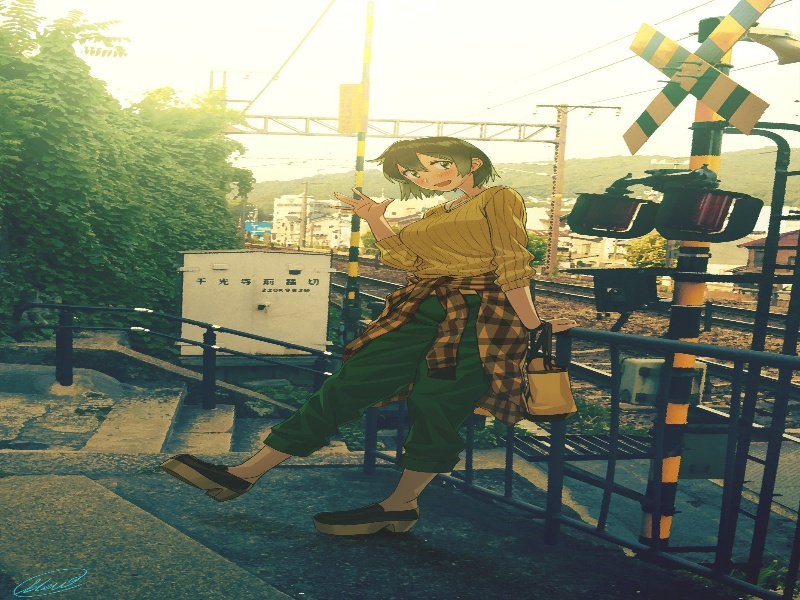person: (393, 147, 472, 199)
